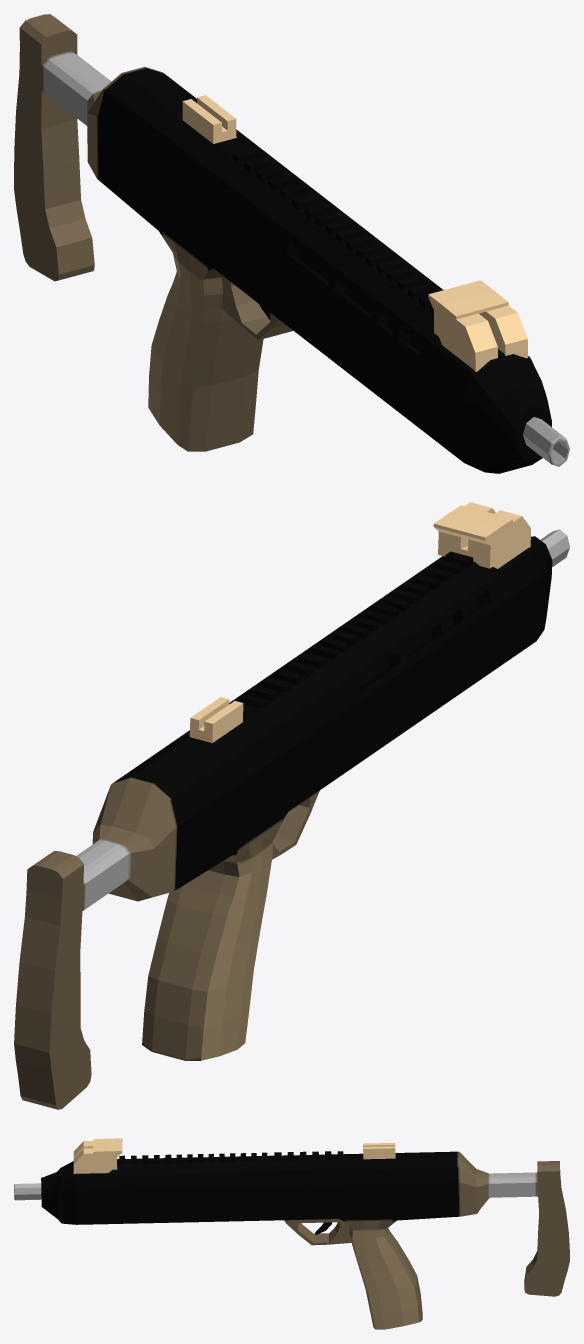
File: primary1.fbx
3 renders of one model, top to bottom at view 1: azimuth 30°, elevation 25°; view 2: azimuth 150°, elevation 25°; view 3: azimuth 270°, elevation 25°, orthographic. The views are drawn at different scales.
Visible parts, largest first — view 1: Cube.004; view 2: Cube.004; view 3: Cube.004.
Boxes of the visible parts, x1,y1,x2,y2 form: Cube.004: (14, 14, 569, 473); Cube.004: (14, 502, 569, 1109); Cube.004: (14, 1138, 569, 1329).
Size of the model in its own units: 5.05 by 21.14 by 60.16.
